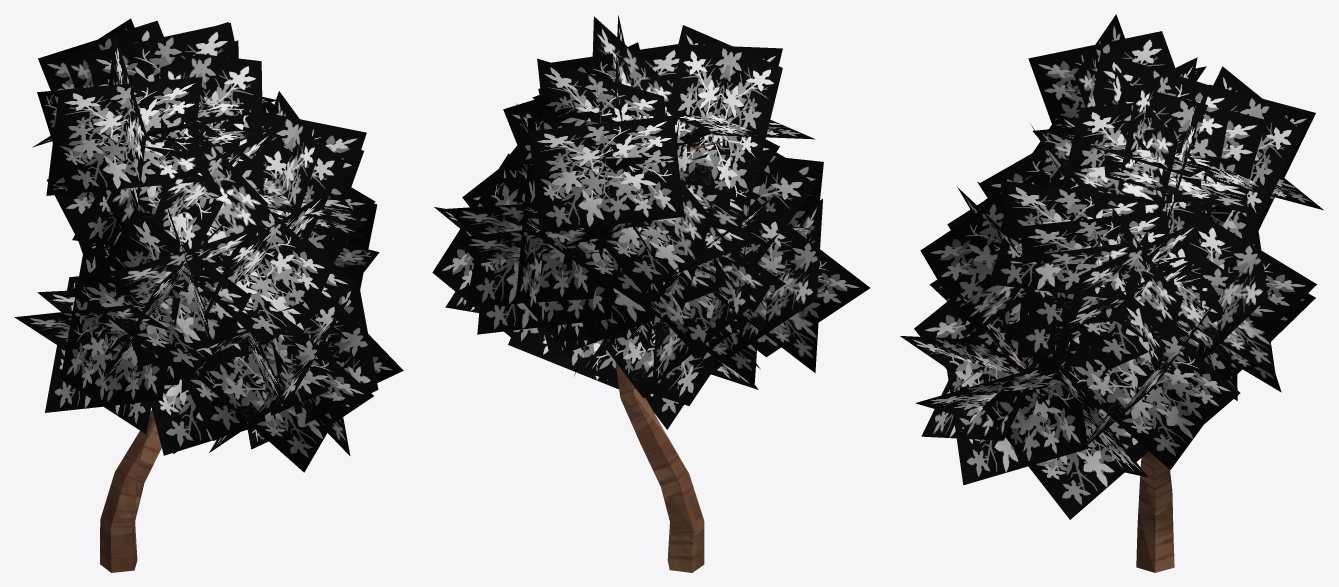
Rendered from M_Tree4_CO.fbx.
The picture shows the model from 3 angles, left to right: view 1: azimuth 30°, elevation 25°; view 2: azimuth 150°, elevation 25°; view 3: azimuth 270°, elevation 25°; orthographic projection.
Visible parts, largest first — view 1: Lit_ass_tree; view 2: Lit_ass_tree; view 3: Lit_ass_tree.
Boxes of the visible parts, x1,y1,x2,y2 form: Lit_ass_tree: (14,18,403,572); Lit_ass_tree: (432,15,869,572); Lit_ass_tree: (900,14,1323,572).
Bounding box in the file's own units: 5.02 × 6.7 × 4.84.
